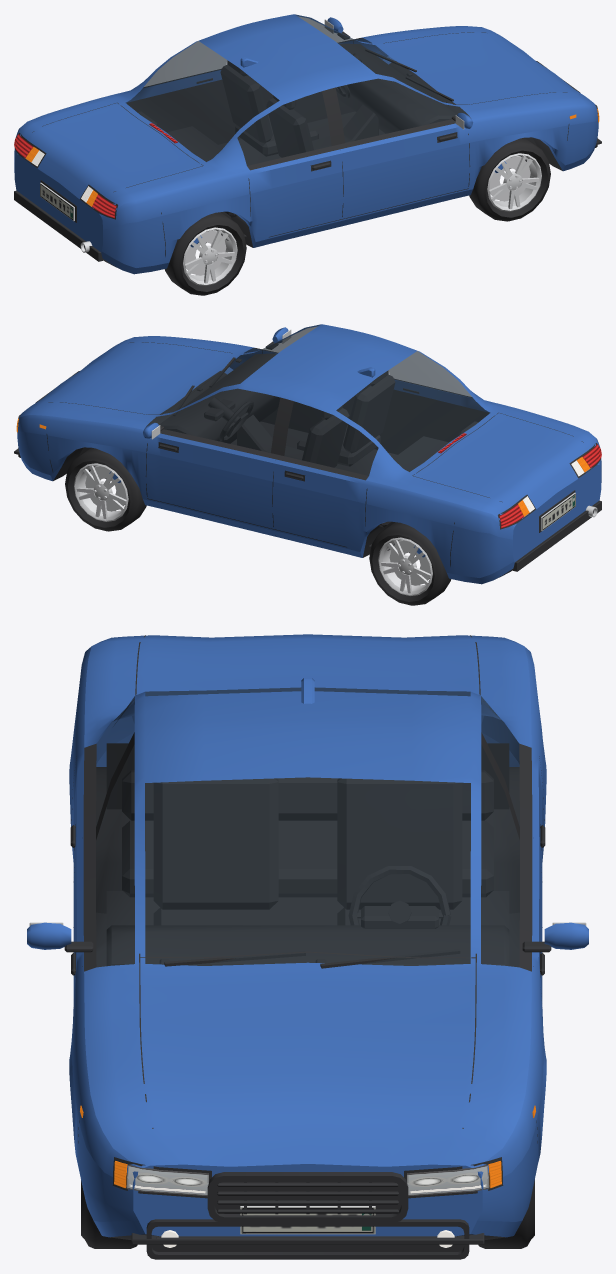
Rendered from car_sedan.glb.
3 views of the same model, one above another, from view 1: azimuth 30°, elevation 25°; view 2: azimuth 150°, elevation 25°; view 3: azimuth 270°, elevation 25° (orthographic). The views are drawn at different scales.
Parts seen in each view (by area): view 1: Body, Wheel_RR, Wheel_FR; view 2: Body, Wheel_RL, Wheel_FL; view 3: Body, Wheel_FL, Wheel_FR.
Part boxes in pixels (<box>): Body: <box>14,14,601,274</box>; Wheel_RR: <box>164,212,246,295</box>; Wheel_FR: <box>469,137,550,221</box>; Body: <box>14,324,601,584</box>; Wheel_RL: <box>369,522,451,605</box>; Wheel_FL: <box>65,447,146,531</box>; Body: <box>27,634,588,1259</box>; Wheel_FL: <box>478,1179,534,1248</box>; Wheel_FR: <box>81,1180,137,1248</box>.
Size of the model in its own units: 4.49 by 1.49 by 2.16.
7 materials, 3 textured.
